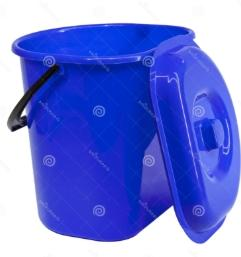SEAU: (0, 6, 241, 257)
